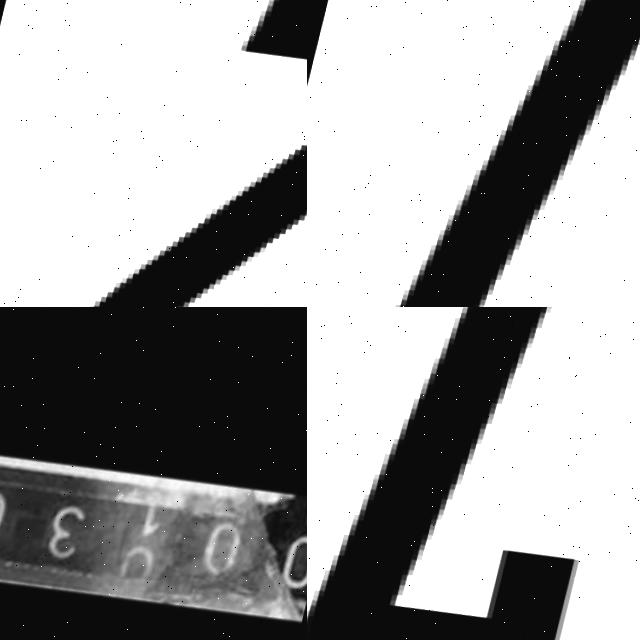0: (201, 529, 247, 590), (279, 539, 307, 606)
2: (0, 0, 307, 307)
3: (46, 507, 93, 574)
6: (0, 491, 10, 558)
7: (307, 307, 640, 640)
J: (365, 0, 640, 307)
